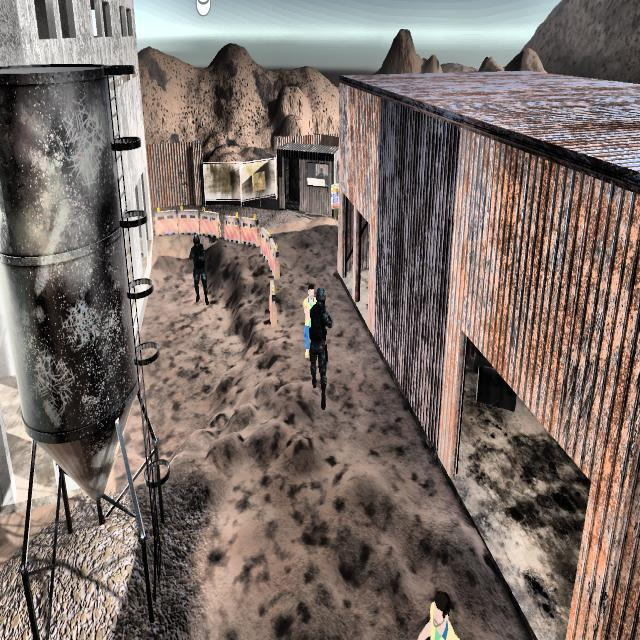bad: (188, 225, 214, 317), (312, 289, 332, 408)
good: (412, 588, 464, 640), (298, 277, 318, 368)
